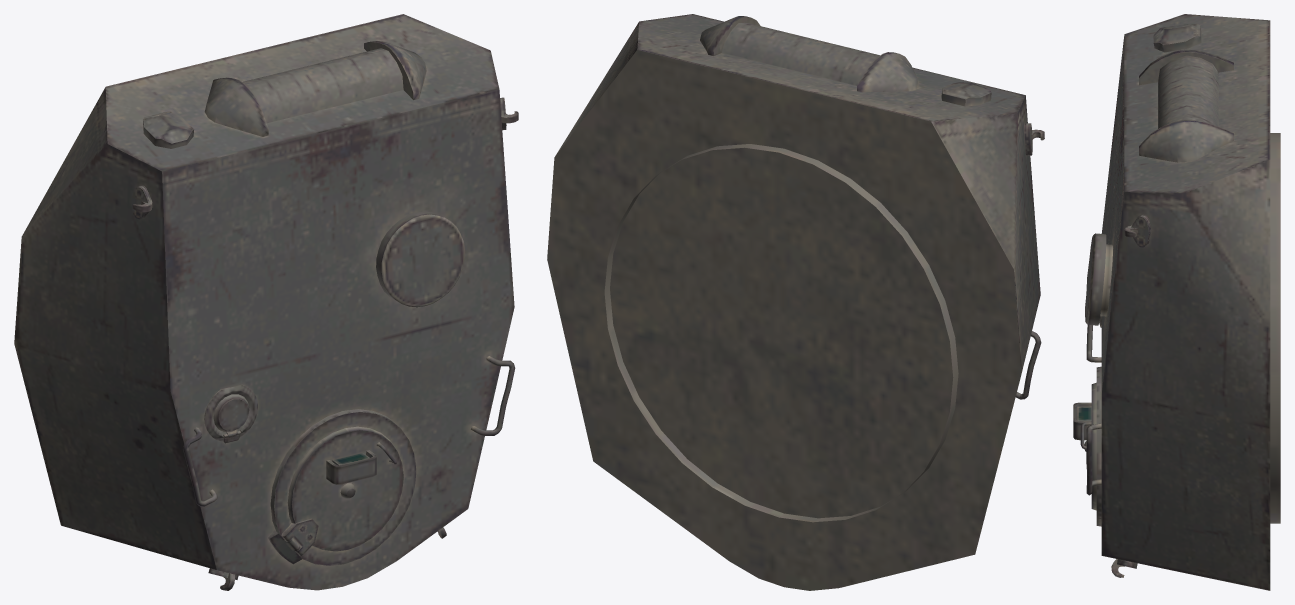
File: Turret_01.glb
3 renders of one model, left to right at view 1: azimuth 30°, elevation 25°; view 2: azimuth 150°, elevation 25°; view 3: azimuth 270°, elevation 25°, orthographic. The views are drawn at different scales.
Visible parts, largest first — view 1: set_0_group_0; view 2: set_0_group_0; view 3: set_0_group_0.
Part boxes in pixels (x1,y1,x2,y2): set_0_group_0: (14, 14, 518, 590); set_0_group_0: (547, 14, 1044, 590); set_0_group_0: (1073, 14, 1280, 590).
Size of the model in its own units: 2.04 by 2.11 by 0.7965.
1 material, 1 textured.
